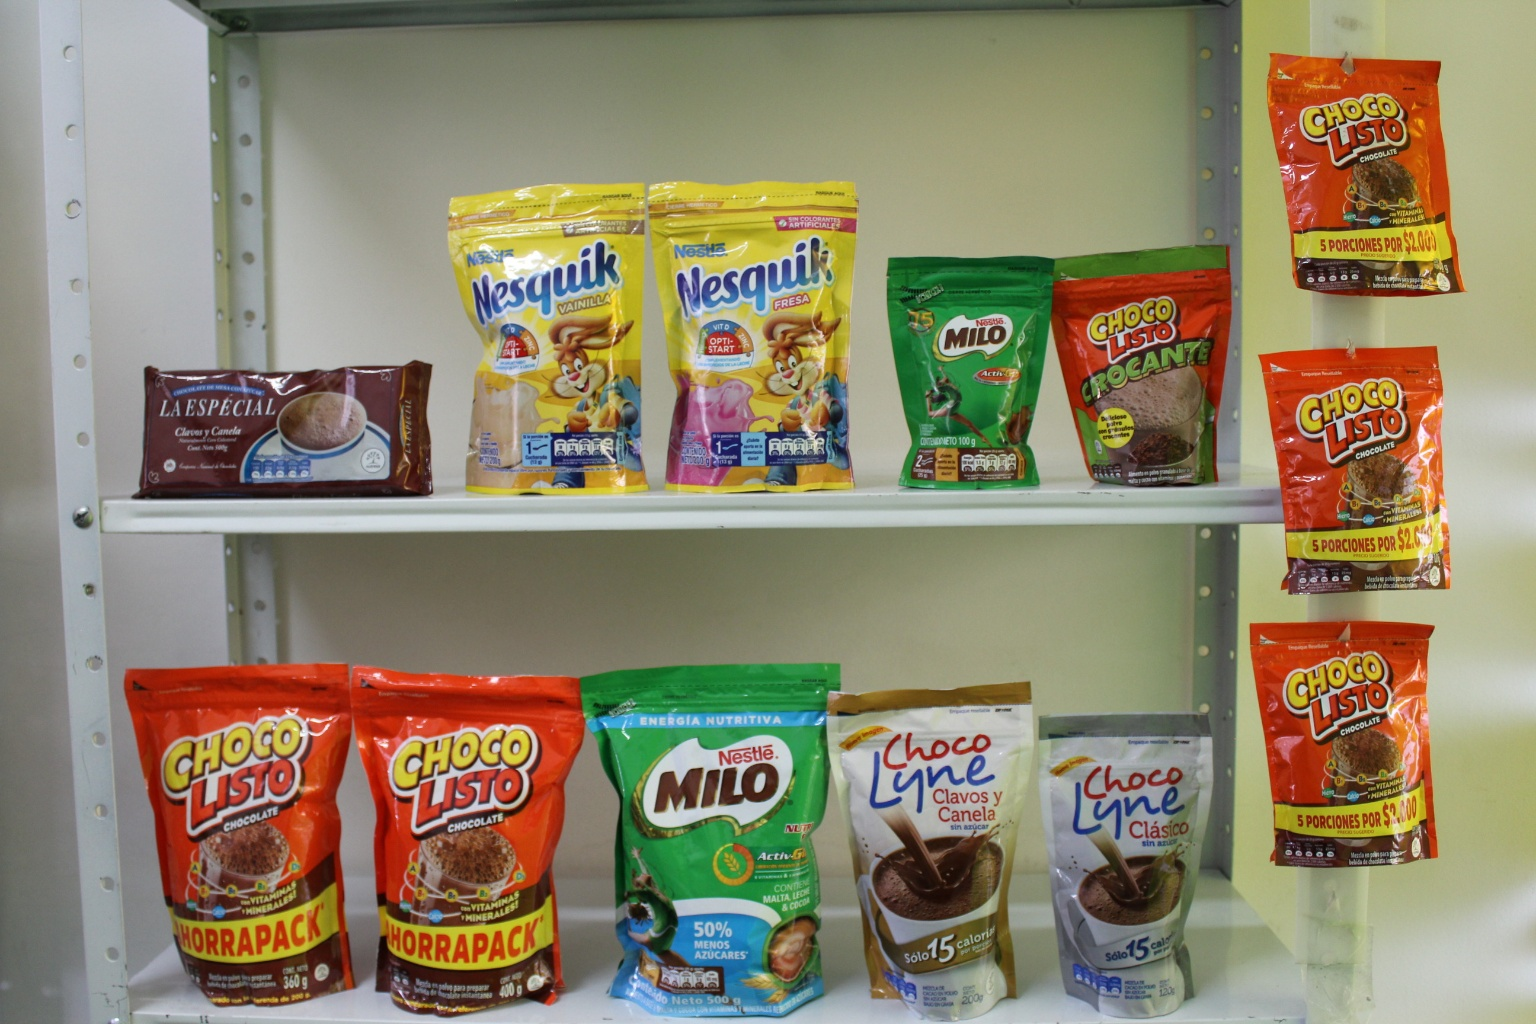COL0170102DYP10000: (1040, 234, 1231, 485)
COL0170103DYP10000: (1265, 50, 1474, 299)
COL0170103DYP36000: (98, 648, 355, 1005)
COL0170103DYP40000: (341, 653, 584, 1013)
COL0170203DYP10000: (874, 235, 1067, 485)
COL0170205DYP50000: (560, 642, 853, 1019)
COL0170305DYP20000: (633, 174, 878, 495)
COL0170306DYP20000: (448, 178, 649, 488)
